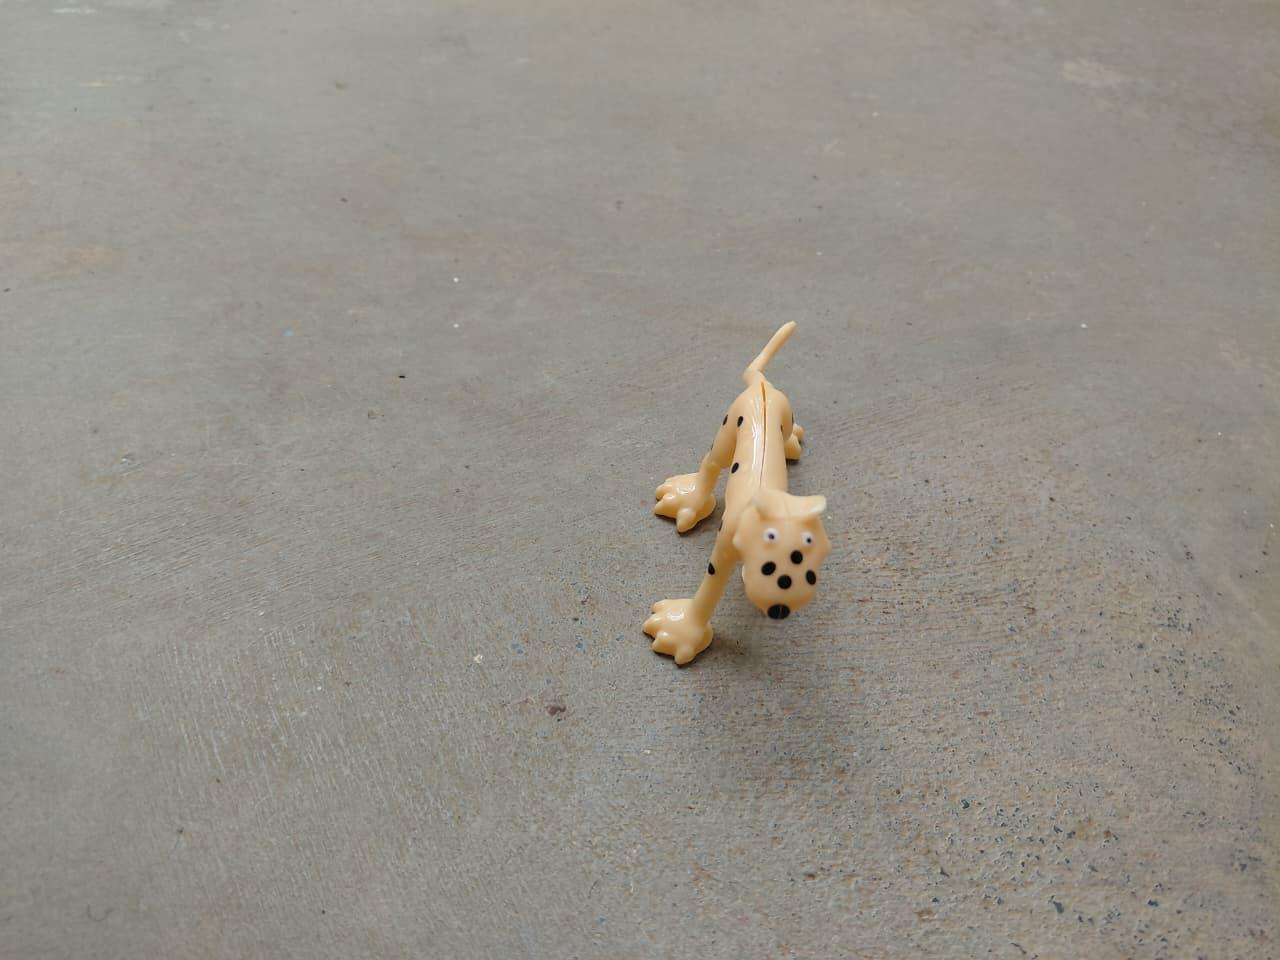cheetah: (628, 301, 834, 679)
